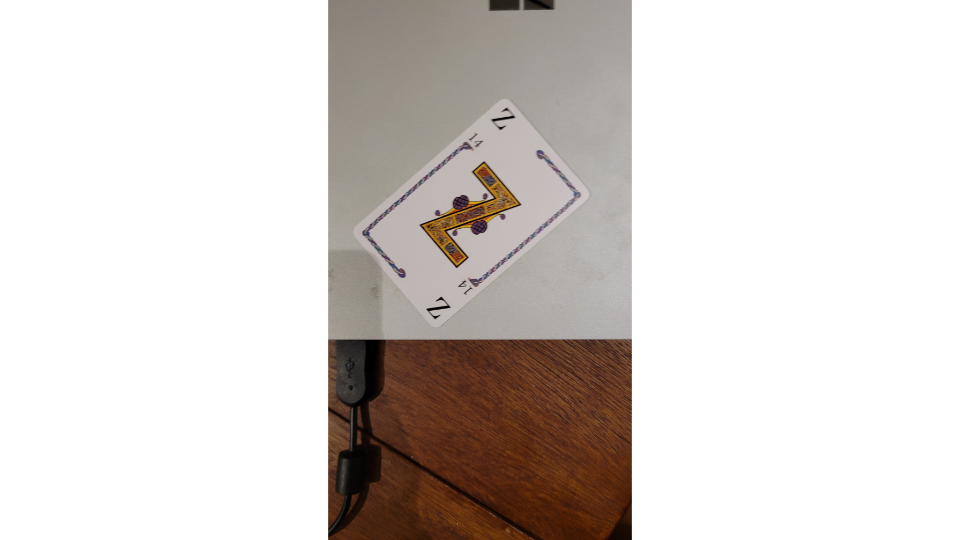Z: (353, 96, 592, 331)
